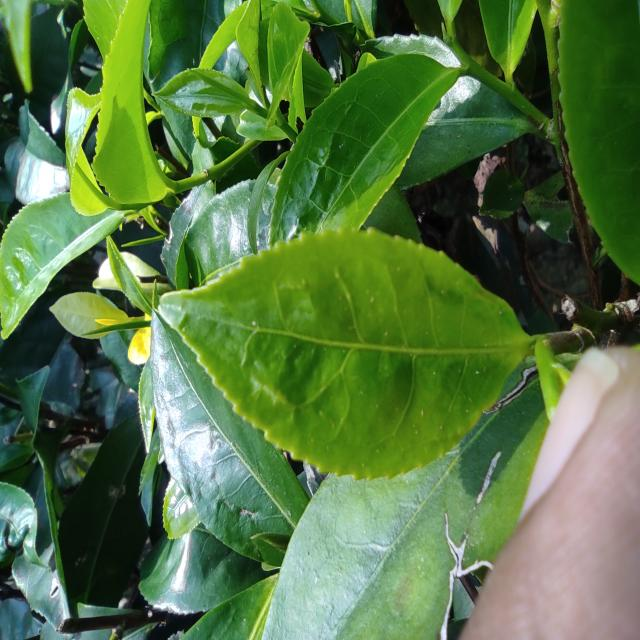Category C(4-7 days): (146, 203, 547, 502)
